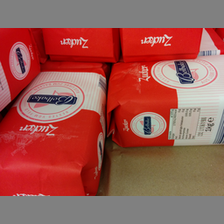flour: (1, 70, 106, 196), (108, 55, 224, 150)
